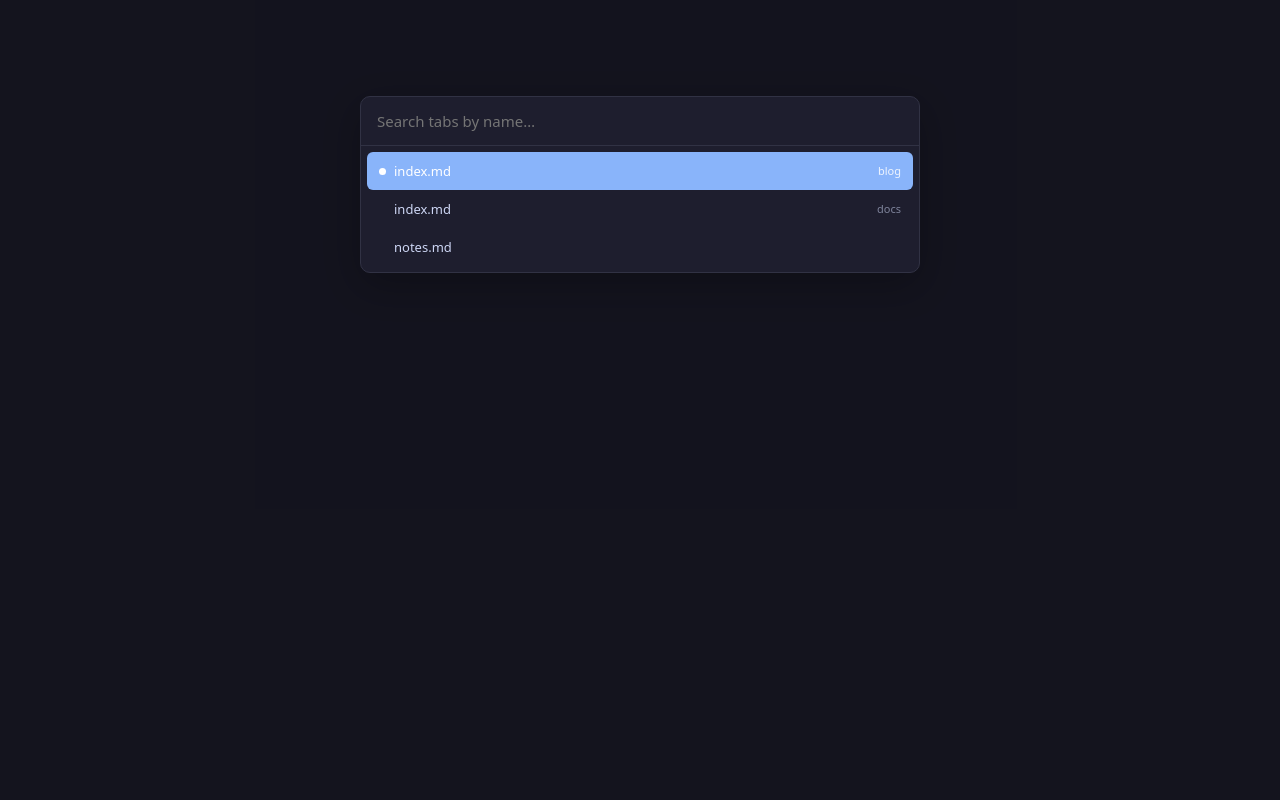
Scenario: TabSwitcher › filters by filename and by parent dir (kept in the search haystack)
Step 1. Type "blog" into the dropdown → (640, 122), box [361,97,919,146]
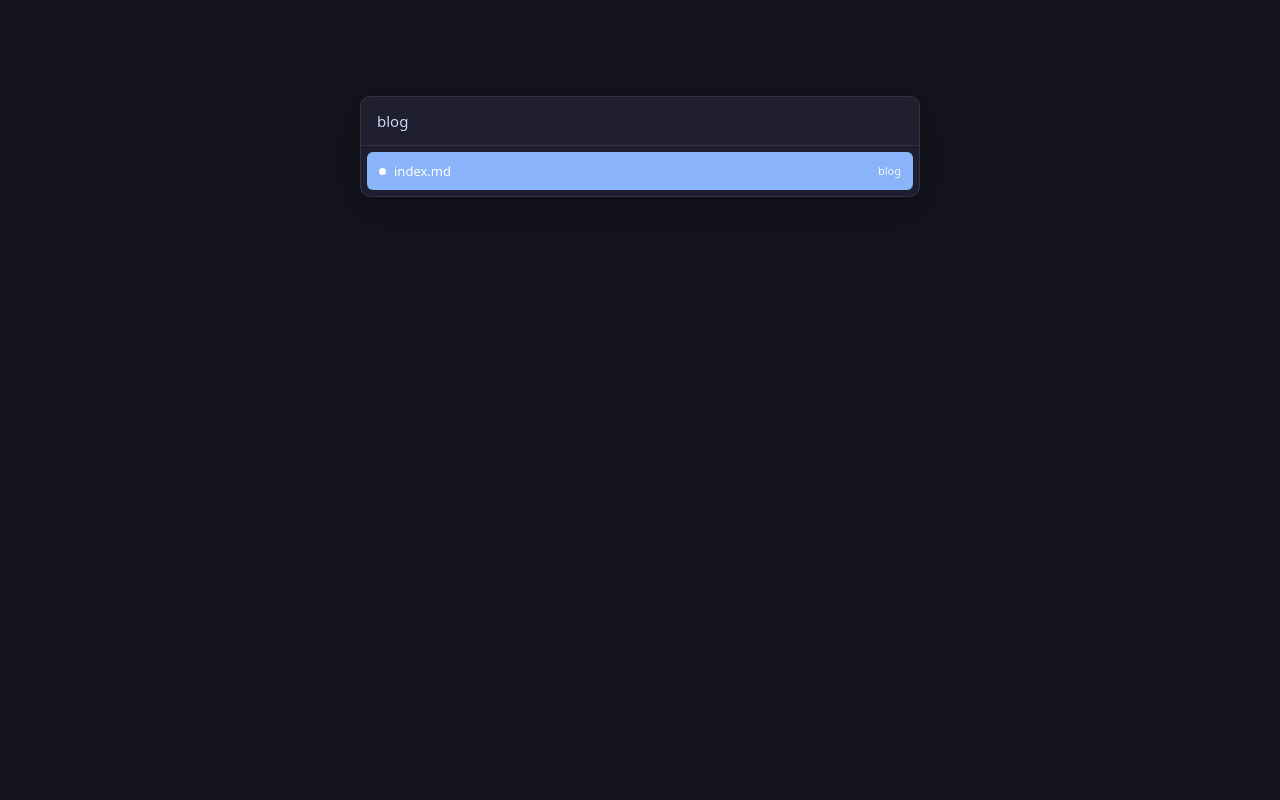
expect the text "blog" is shown: met, box [878,162,901,180]
expect the option "notes.md" is gone: met
